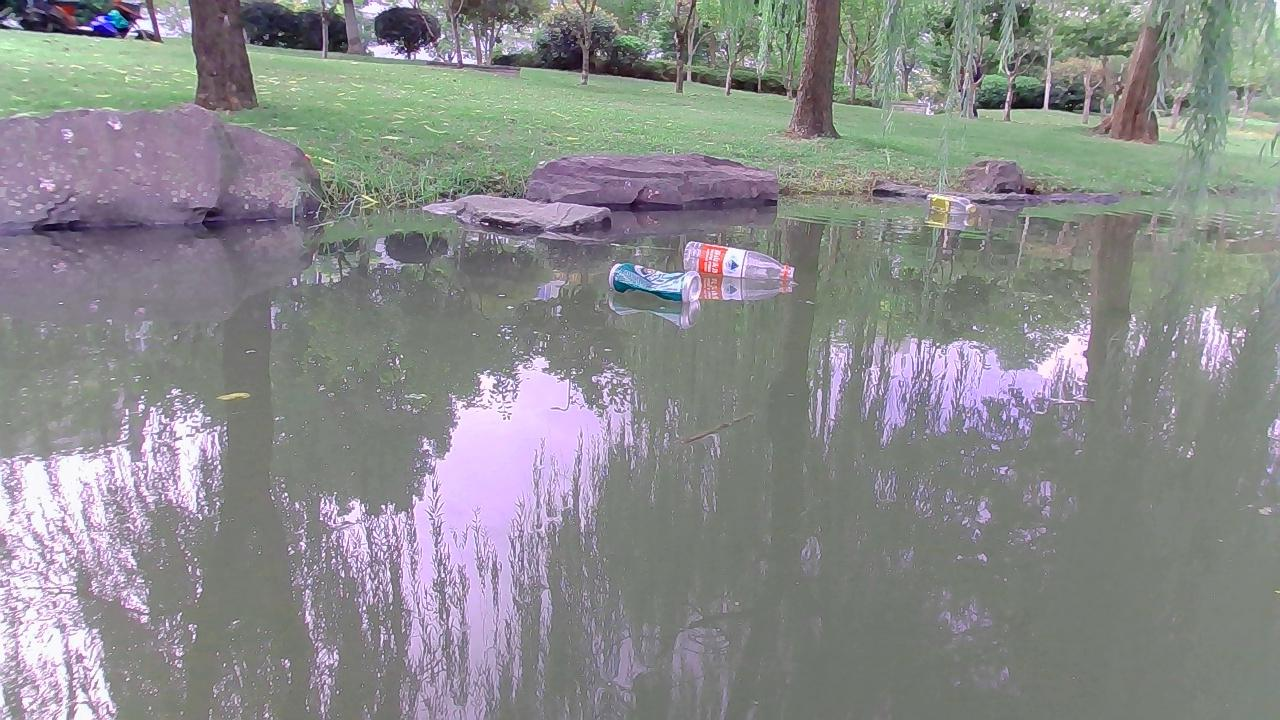Metal: (607, 262, 708, 303)
Plastic: (682, 236, 796, 283), (921, 193, 979, 213)
